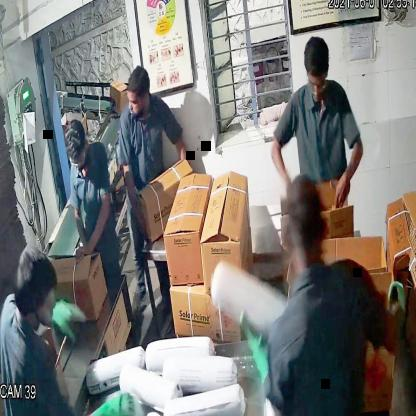goggles: (303, 68, 331, 100)
